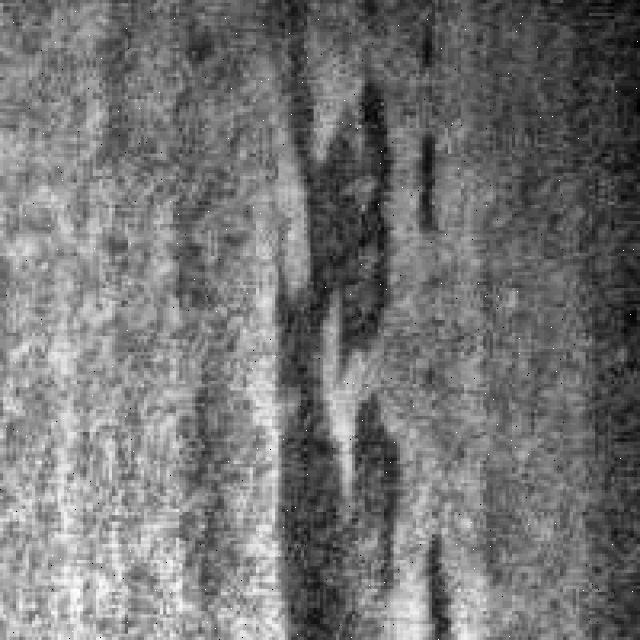Patches: (275, 77, 416, 630)
